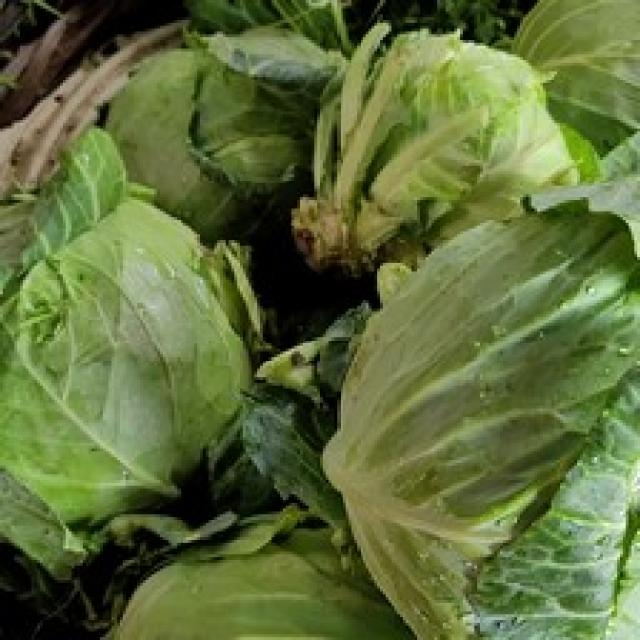Cabbage: (330, 186, 640, 640), (9, 135, 274, 567)
